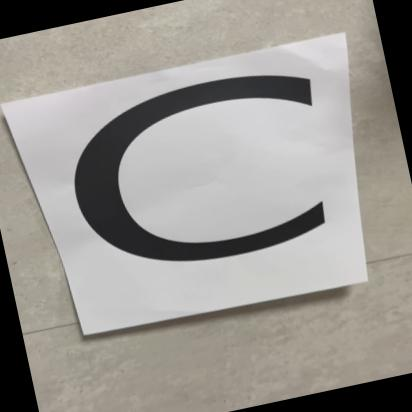seat: (13, 29, 399, 353)
